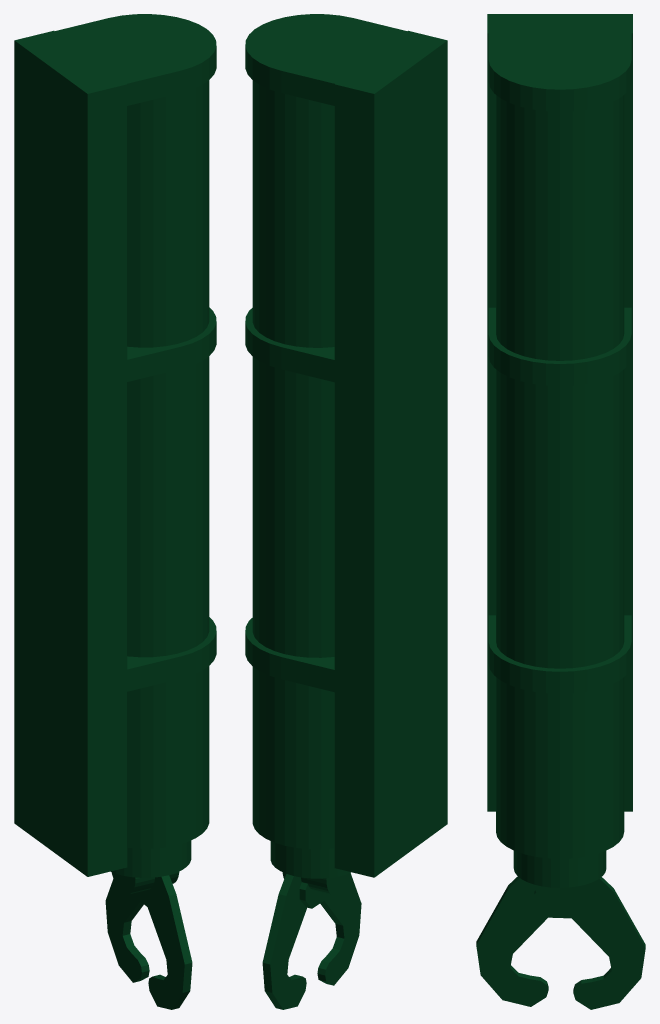
Rendered from gcz_only.fbx.
3 views of the same model, side by side, from view 1: azimuth 30°, elevation 25°; view 2: azimuth 150°, elevation 25°; view 3: azimuth 270°, elevation 25° (orthographic).
Parts seen in each view (by area): view 1: Cylinder.001, Cube, Cylinder, Cube.004; view 2: Cylinder.001, Cube.004, Cube, Cylinder; view 3: Cylinder.001, Cube.004, Cube, Cylinder.
Boxes of the visible parts, bbox=[...] form: Cylinder.001: bbox=[14, 14, 216, 876]; Cube: bbox=[134, 875, 192, 1009]; Cylinder: bbox=[111, 840, 191, 894]; Cube.004: bbox=[105, 879, 149, 982]; Cylinder.001: bbox=[245, 14, 447, 877]; Cube.004: bbox=[262, 874, 306, 1009]; Cube: bbox=[299, 873, 361, 985]; Cylinder: bbox=[270, 841, 350, 895]; Cylinder.001: bbox=[487, 14, 632, 858]; Cube.004: bbox=[534, 877, 645, 1009]; Cube: bbox=[476, 876, 548, 1006]; Cylinder: bbox=[513, 851, 606, 907].
Bounding box in the file's own units: 475 × 2762 × 449.
